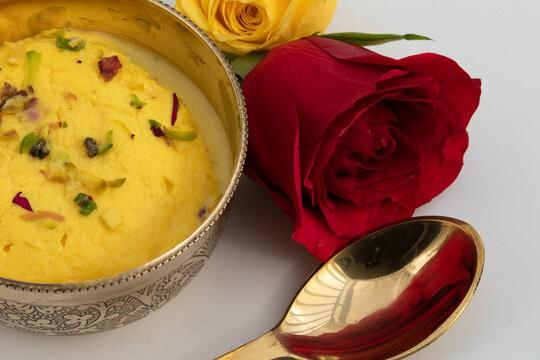RasMalai: (0, 25, 234, 277)
